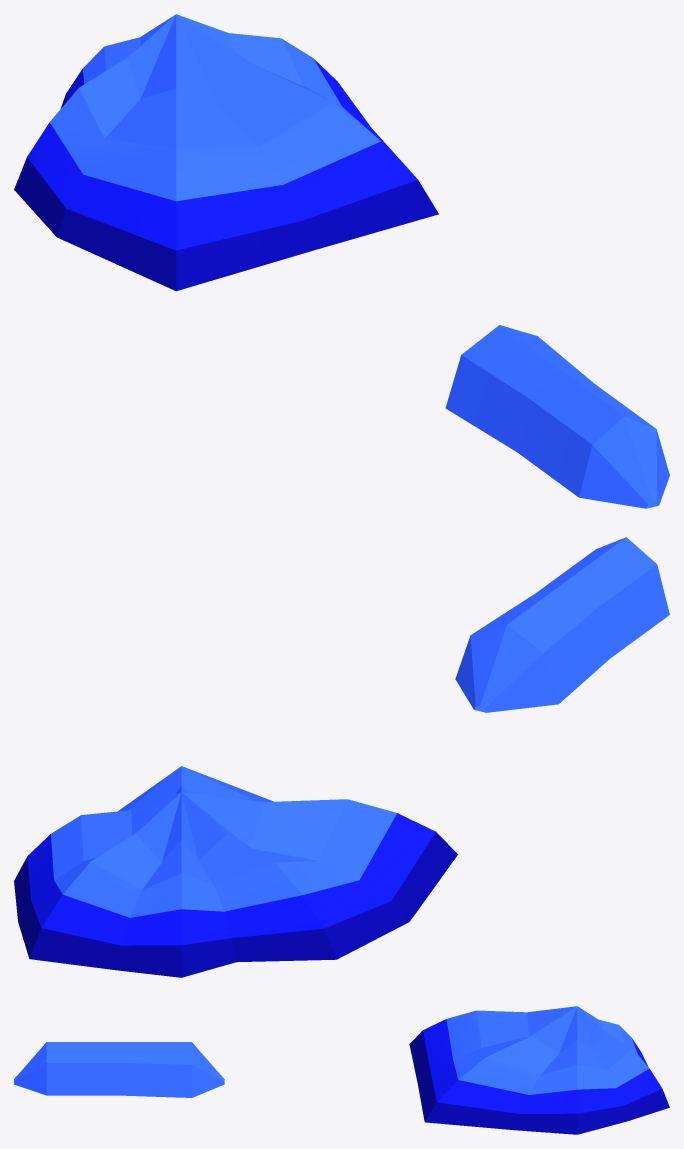
The model's file is shot_ice_152.glb.
3 renders of one model, top to bottom at view 1: azimuth 30°, elevation 25°; view 2: azimuth 150°, elevation 25°; view 3: azimuth 270°, elevation 25°, orthographic. The views are drawn at different scales.
Parts seen in each view (by area): view 1: shot_ice_152_cap, shot_ice_152_trail; view 2: shot_ice_152_cap, shot_ice_152_trail; view 3: shot_ice_152_cap, shot_ice_152_trail.
Part boxes in pixels (box(x1,y1,x2,y2)): shot_ice_152_cap: box(14, 14, 438, 291); shot_ice_152_trail: box(445, 325, 669, 508); shot_ice_152_cap: box(14, 766, 457, 977); shot_ice_152_trail: box(455, 537, 669, 712); shot_ice_152_cap: box(409, 1006, 669, 1134); shot_ice_152_trail: box(14, 1042, 224, 1097).
Bounding box in the file's own units: 3.27 × 1.2 × 9.04.
